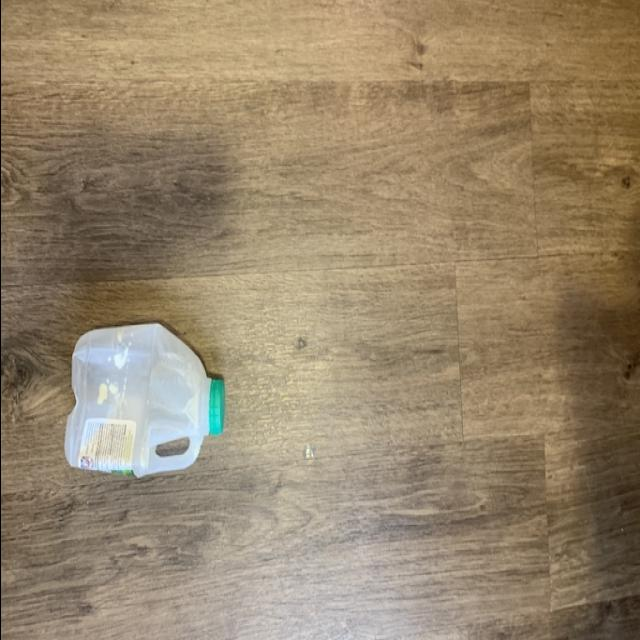HDPEM: (60, 317, 226, 493)
